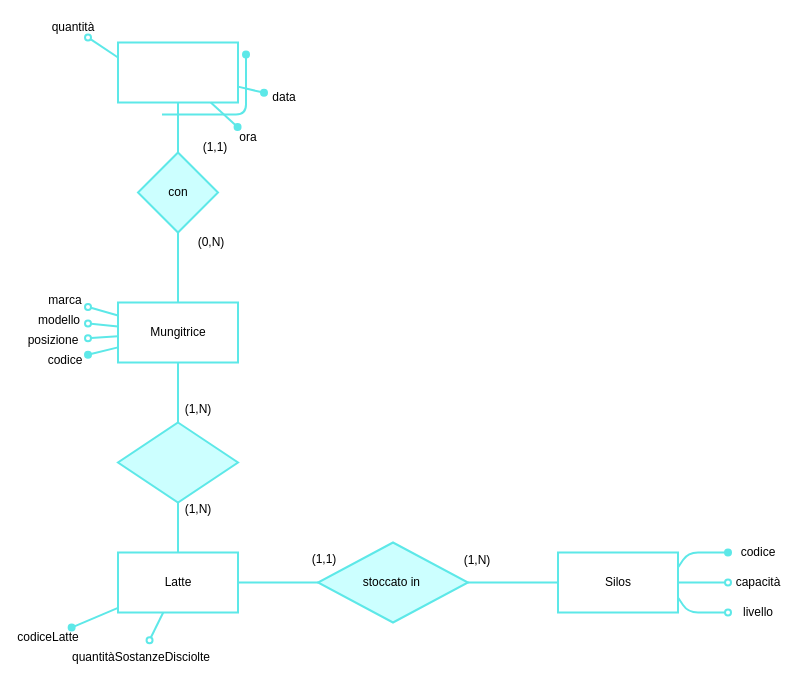
Image size: 797x692. Some labels were removed from this diagram. Here are the shapes that lost their labels. From the top down, the centre of each, then its label:
[177,72]: Mungitura
[177,462]: che munge
